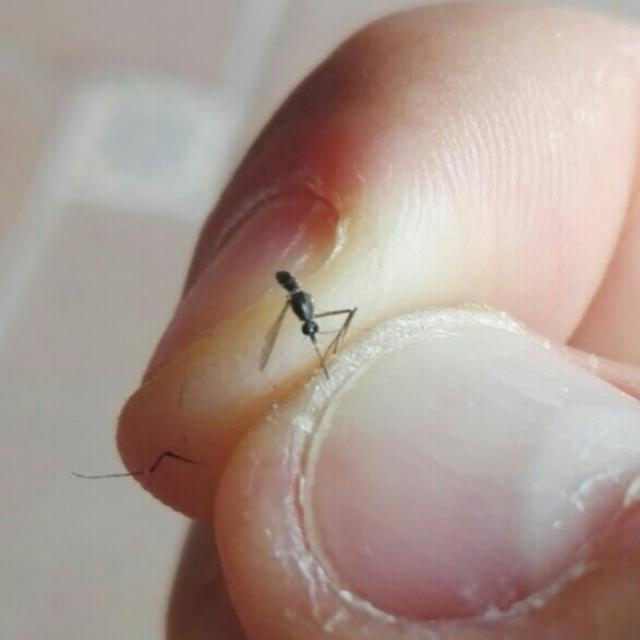albopictus: (256, 261, 358, 377)
